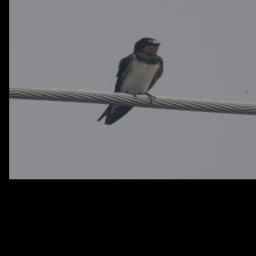Swallow: (96, 35, 167, 128)
